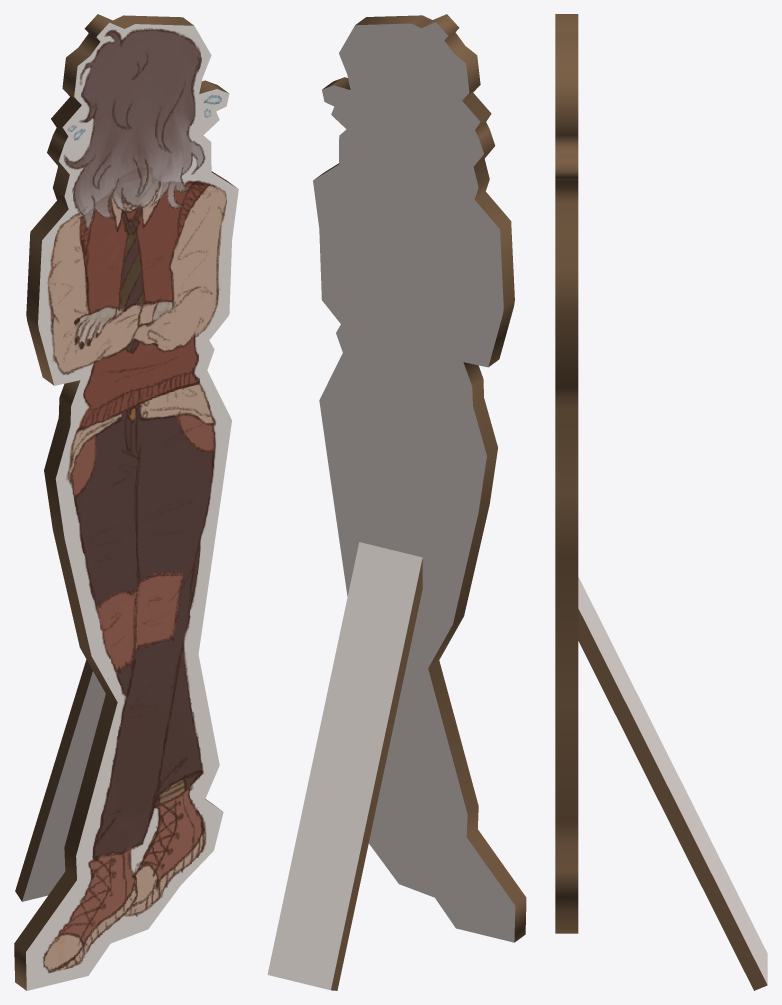
The model's file is Olov_Sad.fbx.
3 renders of one model, left to right at view 1: azimuth 30°, elevation 25°; view 2: azimuth 150°, elevation 25°; view 3: azimuth 270°, elevation 25°, orthographic. The views are drawn at different scales.
Parts seen in each view (by area): view 1: Olov_Sad; view 2: Olov_Sad; view 3: Olov_Sad.
Part boxes in pixels (x1,y1,x2,y2): Olov_Sad: [14, 14, 238, 990]; Olov_Sad: [267, 14, 526, 990]; Olov_Sad: [555, 14, 767, 990].
Size of the model in its own units: 44.4 by 191 by 39.1.
1 material, 1 textured.
